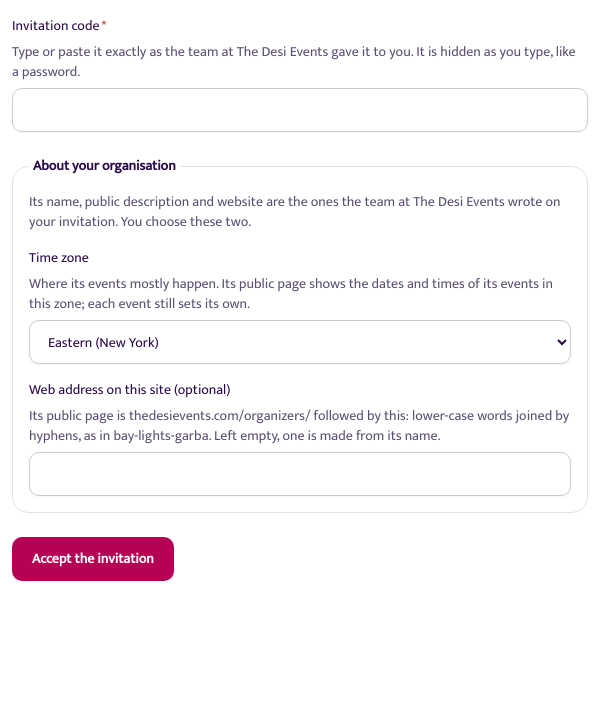
Test case: the accept form › treats a malformed code as one more code this account cannot use
Step 1. Type "Pq7_wE0-rT3yU6iO9pA2sD5fG8hJ1kL4zX7cV0bN3m" into the password field labelled "Invitation code*" → (300, 110), box 12,88 -> 588,132
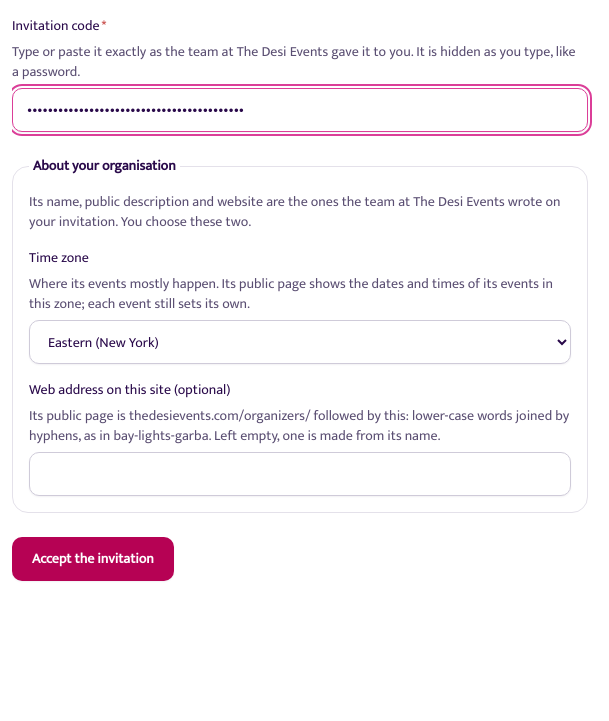
Step 2. Click the button "Accept the invitation" → (93, 559), box 12,537 -> 174,581
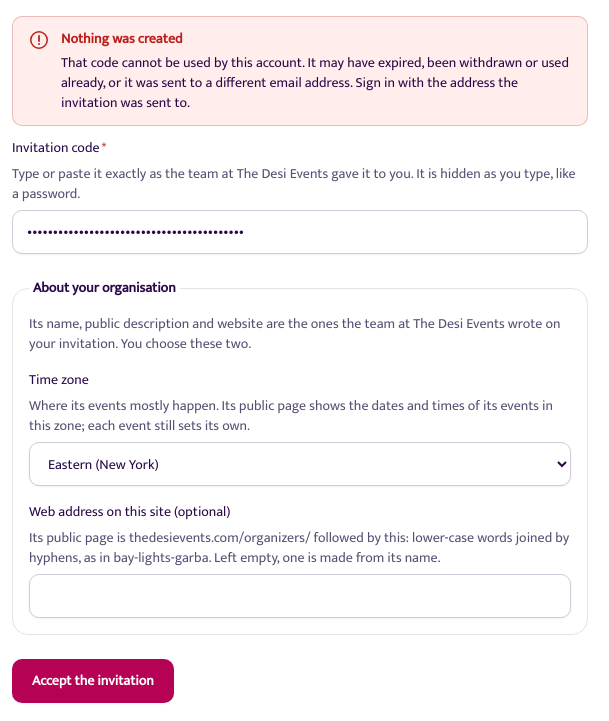
Expected: the text "That code cannot be used by this account. It may have expired, been withdrawn or used already, or it was sent to a diffe" is shown, 61,51 -> 569,114
